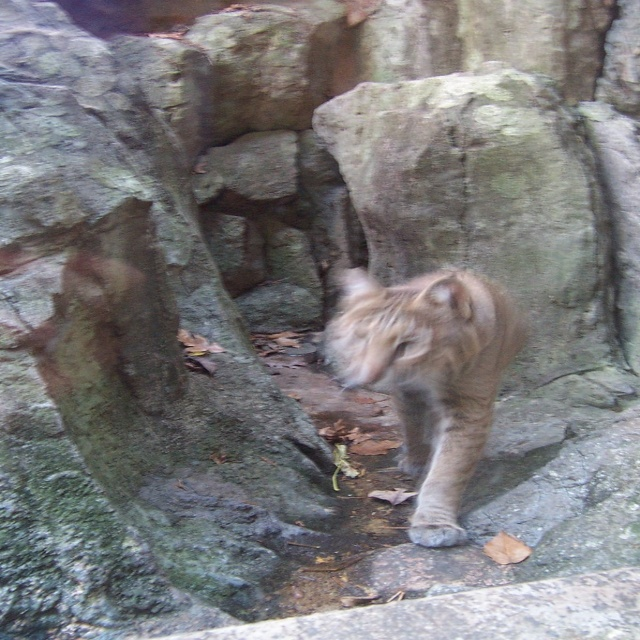Lion: (320, 266, 528, 548)
